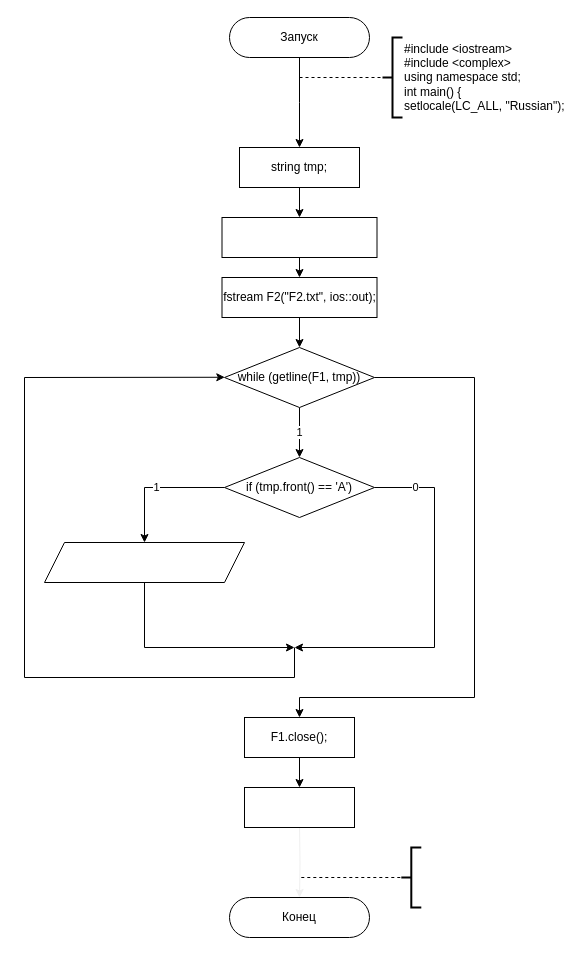
This 583x955 diagram has some shape labels left out. Each missing label, with the box of its shape:
F2 << tmp << endl;: (44, 542, 244, 582)
F2.close();: (244, 786, 354, 828)
fstream F1("F1.txt", ios::in);: (221, 216, 377, 258)
return 0; }: (400, 846, 422, 908)
